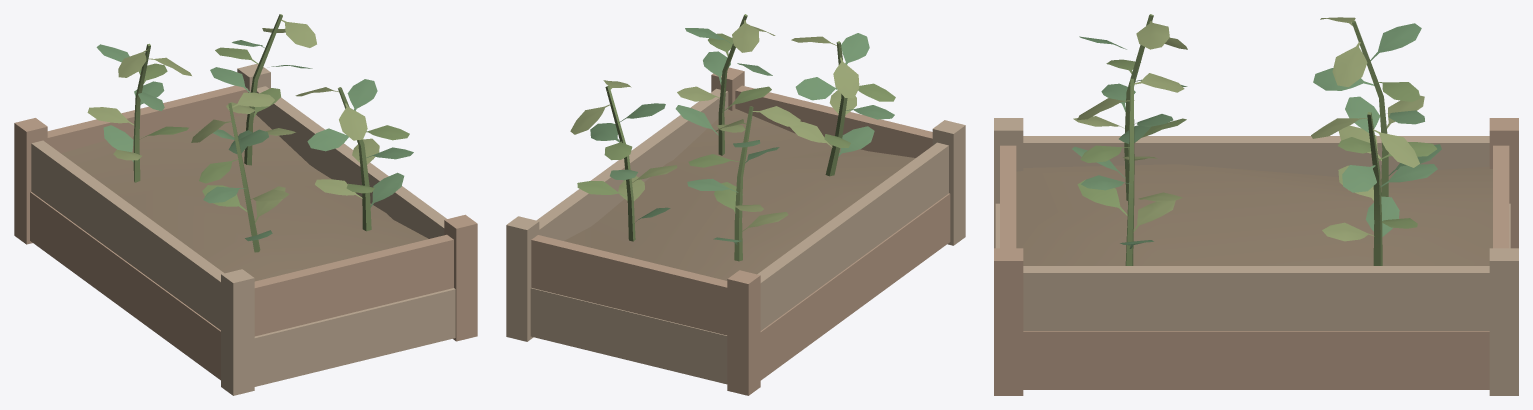
File: planterBox01.fbx
The picture shows the model from 3 angles, left to right: view 1: azimuth 30°, elevation 25°; view 2: azimuth 150°, elevation 25°; view 3: azimuth 270°, elevation 25°; orthographic projection. The views are drawn at different scales.
Parts seen in each view (by area): view 1: dirt1, planterBoard06, planterBoard04, planterBoard03, planterBoard05, planterBoard07, planterBoard02, post01, stem01 (×4), post02, post03, leaf09 (×3) (+9 smaller); view 2: dirt1, planterBoard06, planterBoard02, planterBoard01, planterBoard05, planterBoard07, planterBoard04, post03, stem01 (×4), post04, post01, leaf010 (×2) (+9 smaller); view 3: dirt1, planterBoard07, planterBoard08, planterBoard06, post02, post04, stem01 (×4), post03, leaf010 (×2), planterBoard02, planterBoard04, leaf09 (×3) (+8 smaller).
Part boxes in pixels (x1,y1,x2,y2): dirt1: (61, 113, 428, 281); planterBoard06: (31, 140, 224, 330); planterBoard04: (254, 234, 453, 336); planterBoard03: (254, 288, 455, 386); planterBoard05: (30, 192, 220, 380); planterBoard07: (254, 86, 446, 238); planterBoard02: (47, 85, 248, 153); post01: (221, 269, 254, 395); stem01 (×4): (133, 14, 371, 252); post02: (444, 214, 477, 341); post03: (14, 118, 47, 244); leaf09 (×3): (118, 20, 316, 108); dirt1: (564, 108, 915, 280); planterBoard06: (757, 142, 948, 330); planterBoard02: (531, 235, 727, 335); planterBoard01: (530, 288, 727, 384); planterBoard05: (760, 193, 950, 380); planterBoard07: (536, 88, 728, 240); planterBoard04: (735, 85, 932, 157); post03: (727, 270, 760, 395); stem01 (×4): (605, 14, 847, 261); post04: (506, 216, 539, 341); post01: (932, 120, 965, 245); leaf010 (×2): (570, 57, 859, 134); dirt1: (1016, 164, 1492, 265); planterBoard07: (1023, 266, 1489, 330); planterBoard08: (1023, 331, 1489, 389); planterBoard06: (1023, 136, 1489, 176); post02: (994, 248, 1023, 395); post04: (1489, 248, 1518, 395); stem01 (×4): (1124, 14, 1388, 265); post03: (1489, 118, 1518, 248); leaf010 (×2): (1332, 42, 1419, 167); planterBoard02: (1493, 145, 1509, 248); planterBoard04: (1000, 145, 1016, 248); leaf09 (×3): (1134, 21, 1367, 138).
Size of the model in its own units: 0.7607 by 0.6833 by 1.18.
